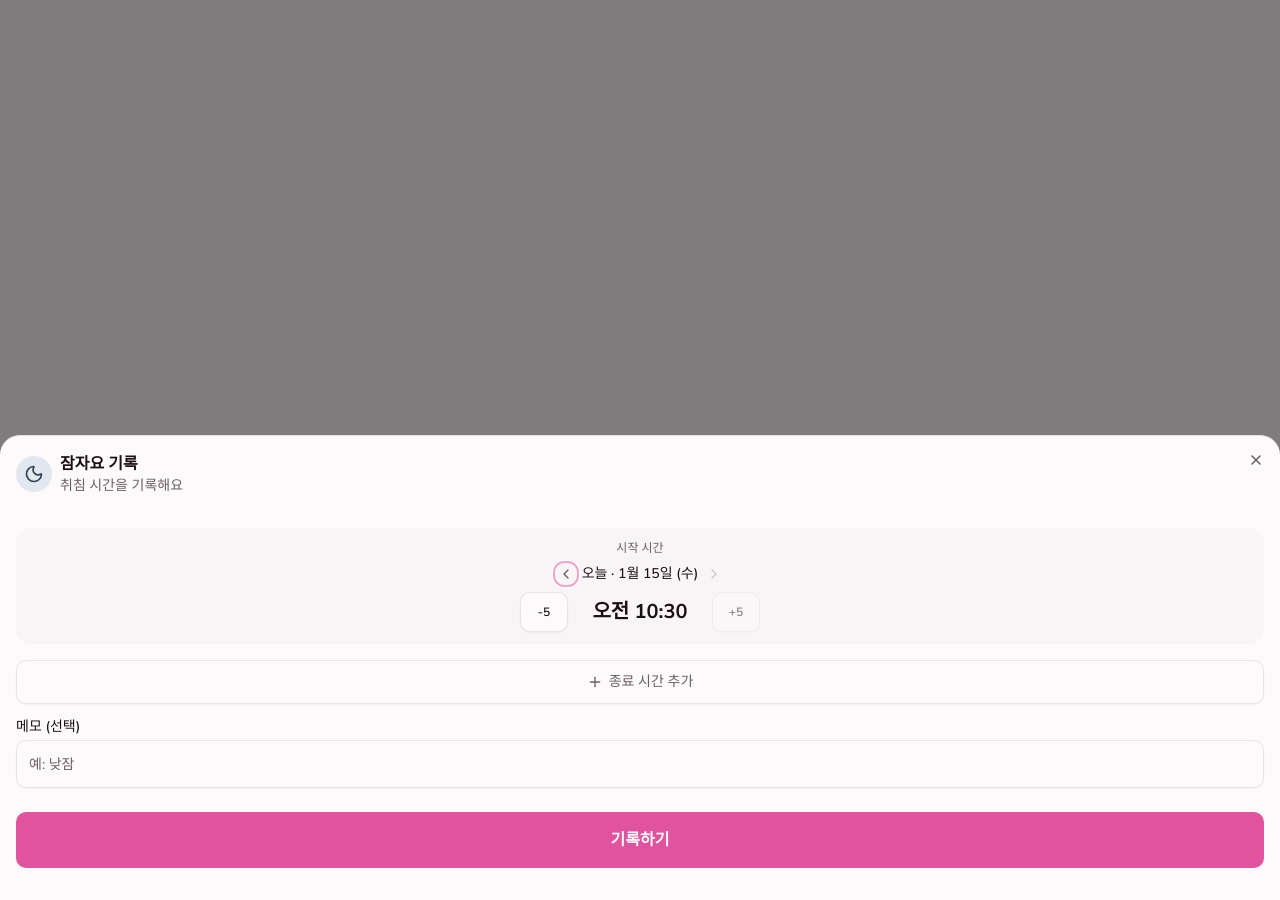
Test case: SleepSheet › shows end time picker when "종료 시간 추가" is clicked
Click the button "종료 시간 추가": [640, 682] box [16,660,1264,704]
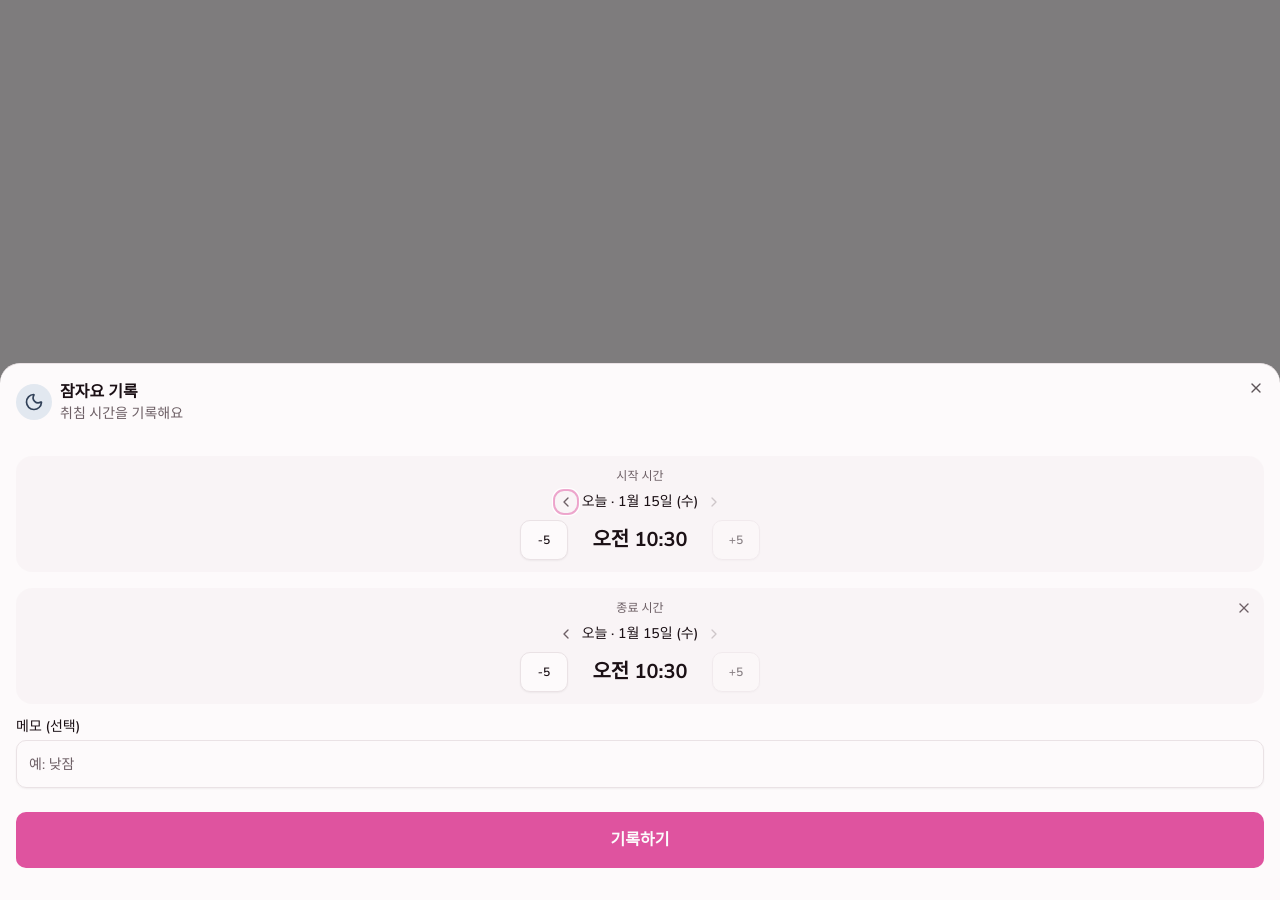
Expected: the text "종료 시간" is shown, [616,600,664,616]
Expected: the button named "종료 시간 제거" is shown, [1232,596,1256,620]
